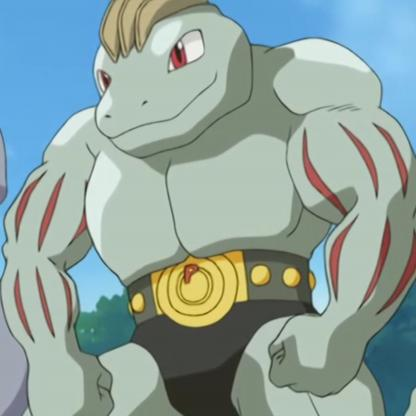Machoke: (3, 1, 416, 416)
